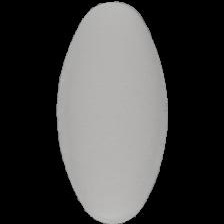0039-0067: (0, 0, 224, 224)
